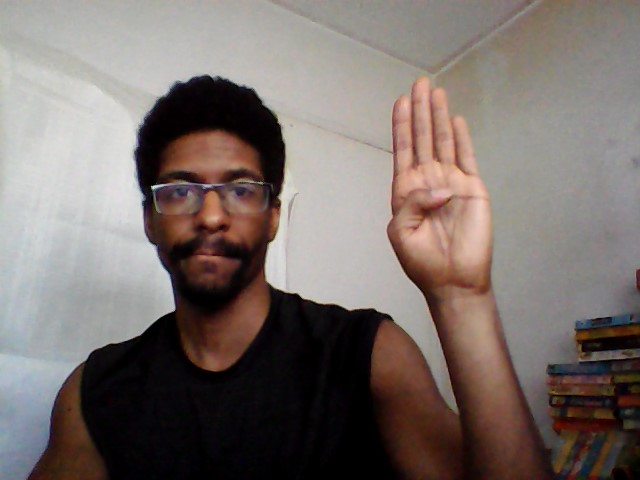b: (381, 72, 499, 296)
